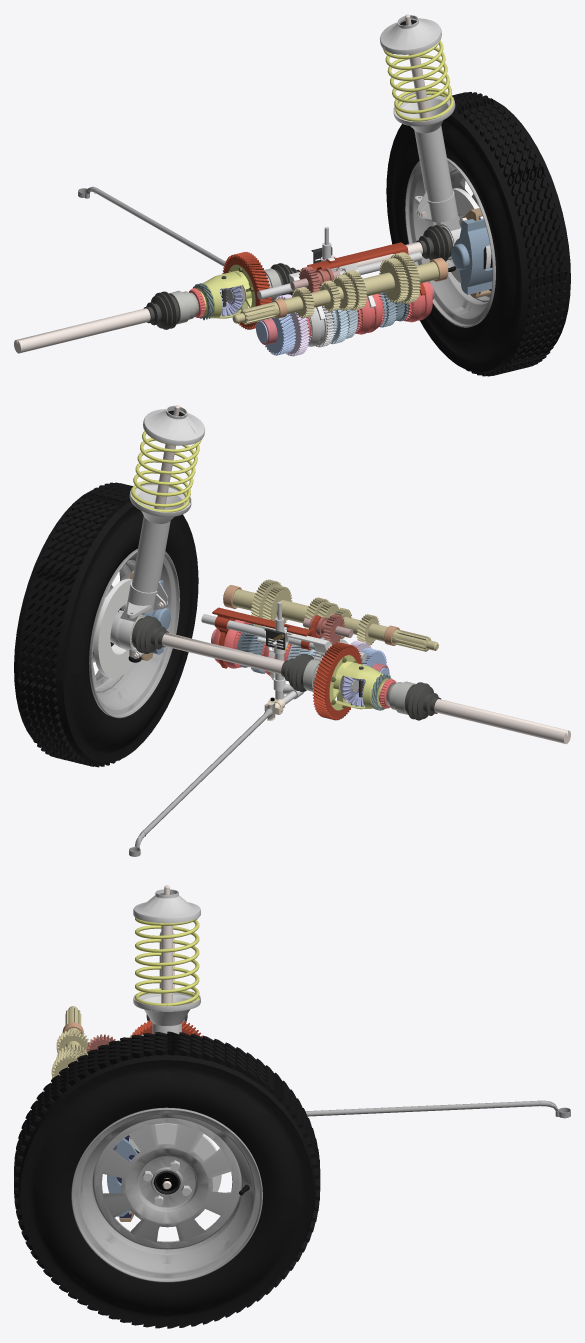
Rendered from manual-gearbox.glb.
The picture shows the model from 3 angles, top to bottom: view 1: azimuth 30°, elevation 25°; view 2: azimuth 150°, elevation 25°; view 3: azimuth 270°, elevation 25°; orthographic projection. The views are drawn at different scales.
Parts seen in each view (by area): view 1: Object_192, Object_67, Object_200, Object_169, Object_181, Object_59, Object_8, Object_167, Object_49, Object_61, Object_165, Object_76 (+14 smaller); view 2: Object_192, Object_200, Object_67, Object_169, Object_186, Object_181, Object_59, Object_167, Object_51, Object_61, Object_165, Object_49 (+9 smaller); view 3: Object_192, Object_200, Object_181, Object_76, Object_167, Object_169, Object_67, Object_186, Object_177, Object_6.
Part boxes in pixels (left/top/right/bottom): Object_192: left=386, top=92, right=570, bottom=376; Object_67: left=232, top=252, right=448, bottom=324; Object_200: left=405, top=158, right=495, bottom=327; Object_169: left=393, top=91, right=455, bottom=213; Object_181: left=383, top=39, right=451, bottom=113; Object_59: left=14, top=308, right=150, bottom=353; Object_8: left=451, top=219, right=484, bottom=294; Object_167: left=380, top=15, right=441, bottom=54; Object_49: left=196, top=264, right=255, bottom=318; Object_61: left=222, top=252, right=272, bottom=329; Object_165: left=415, top=190, right=463, bottom=266; Object_76: left=78, top=186, right=225, bottom=266; Object_192: left=14, top=482, right=198, bottom=767; Object_200: left=89, top=548, right=179, bottom=718; Object_67: left=223, top=579, right=438, bottom=651; Object_169: left=129, top=483, right=191, bottom=605; Object_186: left=93, top=578, right=133, bottom=678; Object_181: left=131, top=431, right=201, bottom=507; Object_59: left=434, top=699, right=570, bottom=744; Object_167: left=143, top=405, right=205, bottom=445; Object_51: left=162, top=632, right=284, bottom=674; Object_61: left=312, top=642, right=362, bottom=720; Object_165: left=110, top=581, right=167, bottom=658; Object_49: left=329, top=655, right=388, bottom=710; Object_192: left=14, top=1031, right=320, bottom=1328; Object_200: left=71, top=1107, right=262, bottom=1282; Object_181: left=135, top=917, right=199, bottom=1006; Object_76: left=305, top=1100, right=570, bottom=1118; Object_167: left=133, top=889, right=200, bottom=923; Object_169: left=133, top=990, right=200, bottom=1034; Object_67: left=51, top=1006, right=88, bottom=1083; Object_186: left=129, top=1123, right=221, bottom=1191; Object_177: left=161, top=885, right=172, bottom=1003; Object_6: left=107, top=1138, right=137, bottom=1216.
Size of the model in its own units: 32.14 by 22.74 by 29.02.
